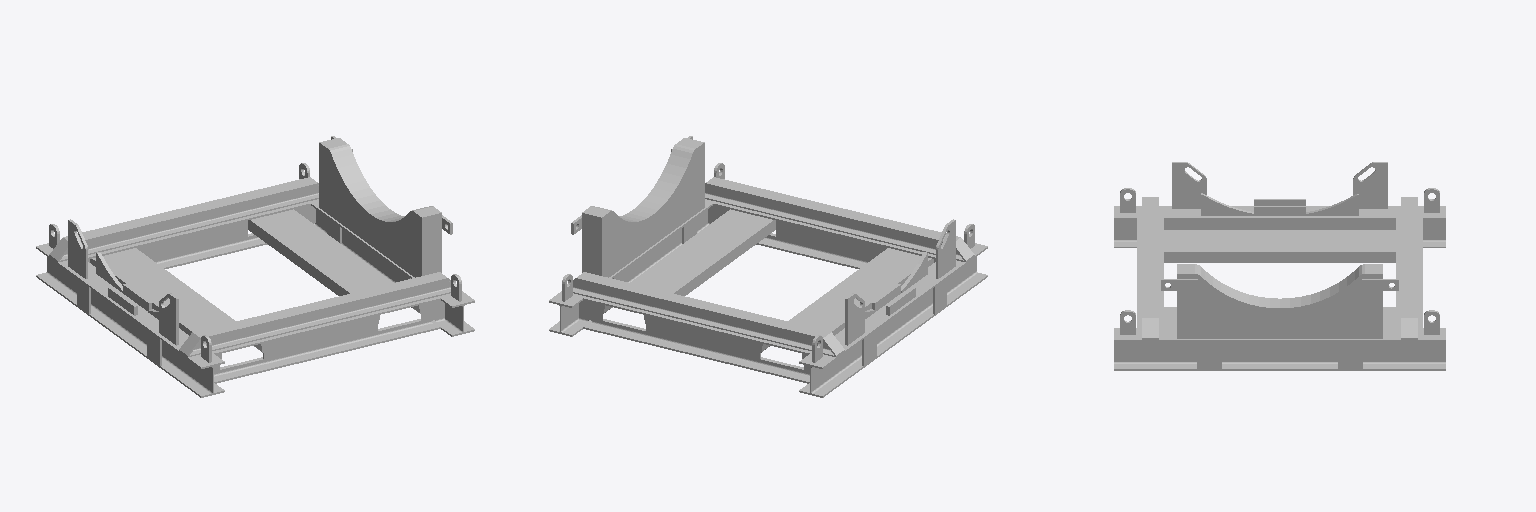
File: Base de Motor de Tracción 930-E v2.obj
3 renders of one model, left to right at view 1: azimuth 30°, elevation 25°; view 2: azimuth 150°, elevation 25°; view 3: azimuth 270°, elevation 25°, orthographic.
Visible parts, largest first — view 1: Solid1, Solid8, Solid4, Solid5; view 2: Solid1, Solid8, Solid5, Solid4; view 3: Solid1, Solid8, Solid4, Solid5, Solid15, Solid16, Solid6, Solid2.
Boxes of the visible parts, x1=… form: Solid1: x1=36, y1=177, x2=474, y2=397; Solid8: x1=319, y1=136, x2=452, y2=277; Solid4: x1=68, y1=219, x2=87, y2=278; Solid5: x1=159, y1=293, x2=178, y2=345; Solid1: x1=549, y1=177, x2=987, y2=397; Solid8: x1=571, y1=136, x2=704, y2=277; Solid5: x1=936, y1=219, x2=955, y2=278; Solid4: x1=845, y1=293, x2=864, y2=345; Solid1: x1=1114, y1=197, x2=1445, y2=370; Solid8: x1=1161, y1=264, x2=1398, y2=338; Solid4: x1=1353, y1=162, x2=1387, y2=208; Solid5: x1=1172, y1=162, x2=1206, y2=208; Solid15: x1=1338, y1=342, x2=1362, y2=368; Solid16: x1=1197, y1=342, x2=1221, y2=368; Solid6: x1=1201, y1=193, x2=1253, y2=215; Solid2: x1=1306, y1=194, x2=1358, y2=215.
Bounding box in the file's own units: 16.16 × 5.38 × 16.86.